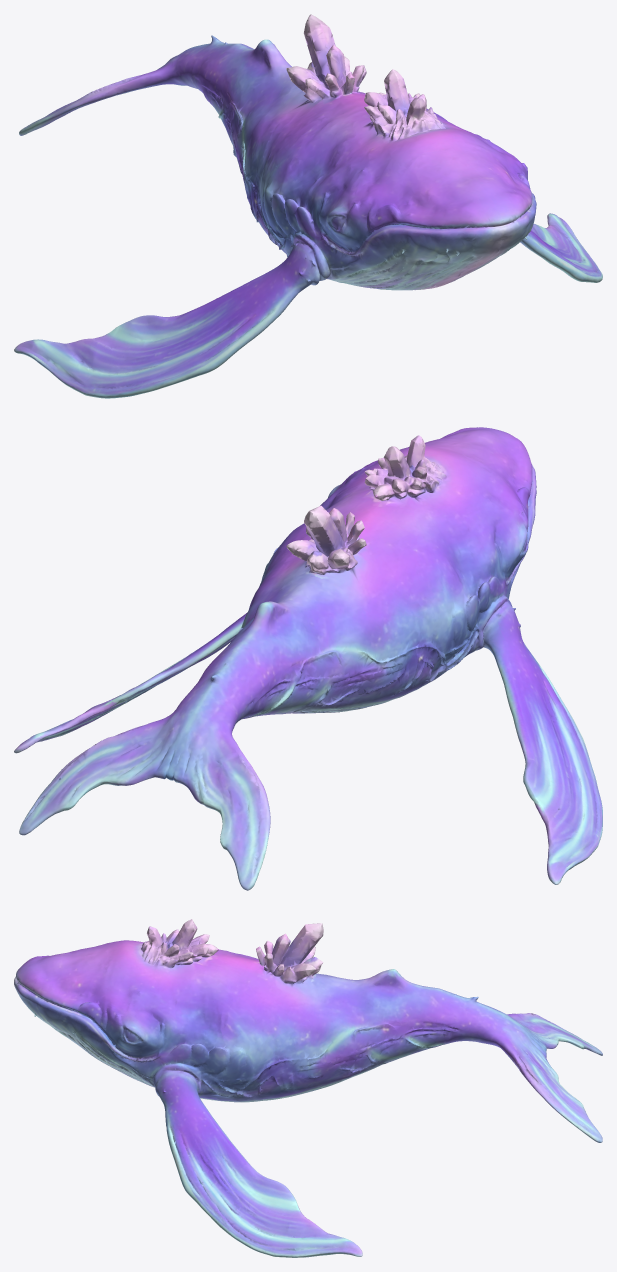
The model's file is whale-optimized.glb.
3 views of the same model, one above another, from view 1: azimuth 30°, elevation 25°; view 2: azimuth 150°, elevation 25°; view 3: azimuth 270°, elevation 25° (orthographic). The views are drawn at different scales.
Parts seen in each view (by area): view 1: tripo_node_56bce1e6-8331-4b34-bc20-e05cabef1681; view 2: tripo_node_56bce1e6-8331-4b34-bc20-e05cabef1681; view 3: tripo_node_56bce1e6-8331-4b34-bc20-e05cabef1681.
Part boxes in pixels (left/top/right/bottom): tripo_node_56bce1e6-8331-4b34-bc20-e05cabef1681: left=14, top=14, right=602, bottom=398; tripo_node_56bce1e6-8331-4b34-bc20-e05cabef1681: left=14, top=427, right=602, bottom=890; tripo_node_56bce1e6-8331-4b34-bc20-e05cabef1681: left=14, top=919, right=602, bottom=1257.
Bounding box in the file's own units: 0.8448 × 0.4481 × 1.
Materials: 1 (1 with a texture image).
